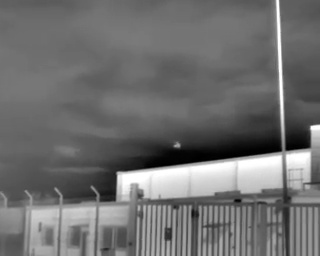HELICOPTER: (170, 137, 188, 153)
